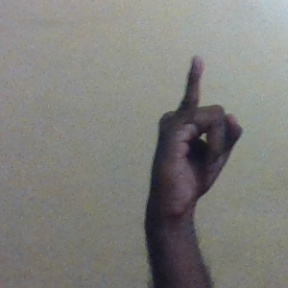I: (142, 55, 247, 214)
